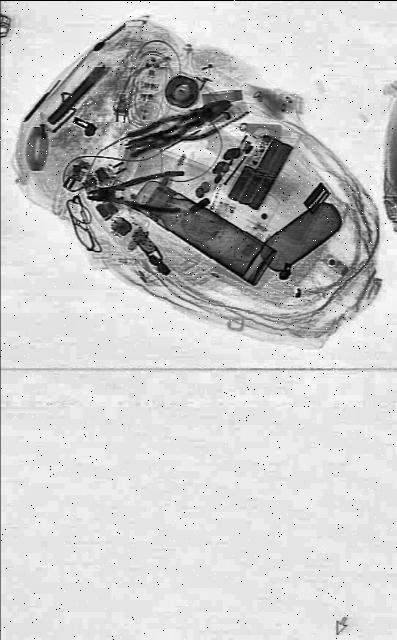Pliers: (124, 94, 231, 160), (87, 172, 183, 216), (125, 112, 214, 158)
